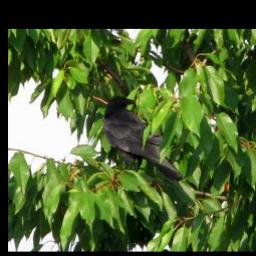Crow: (101, 95, 184, 181)
